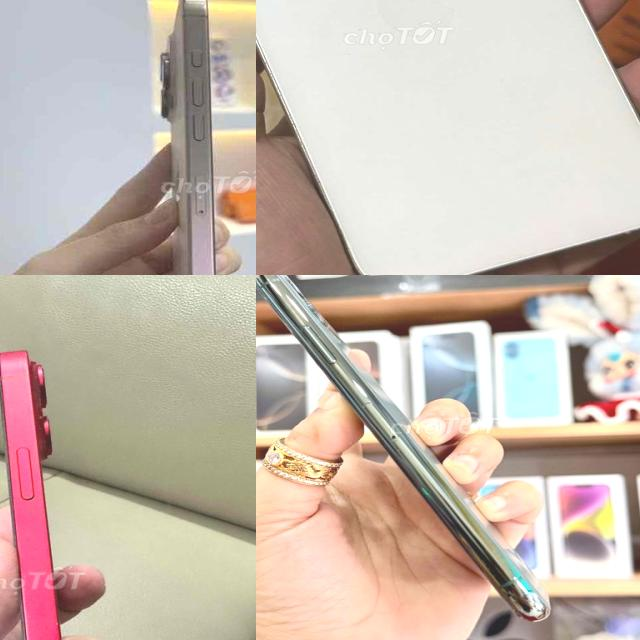gen_11: (256, 275, 550, 621)
gen_14: (0, 333, 105, 640)
gen_15: (256, 0, 640, 275)
gen_16: (160, 0, 215, 275)
